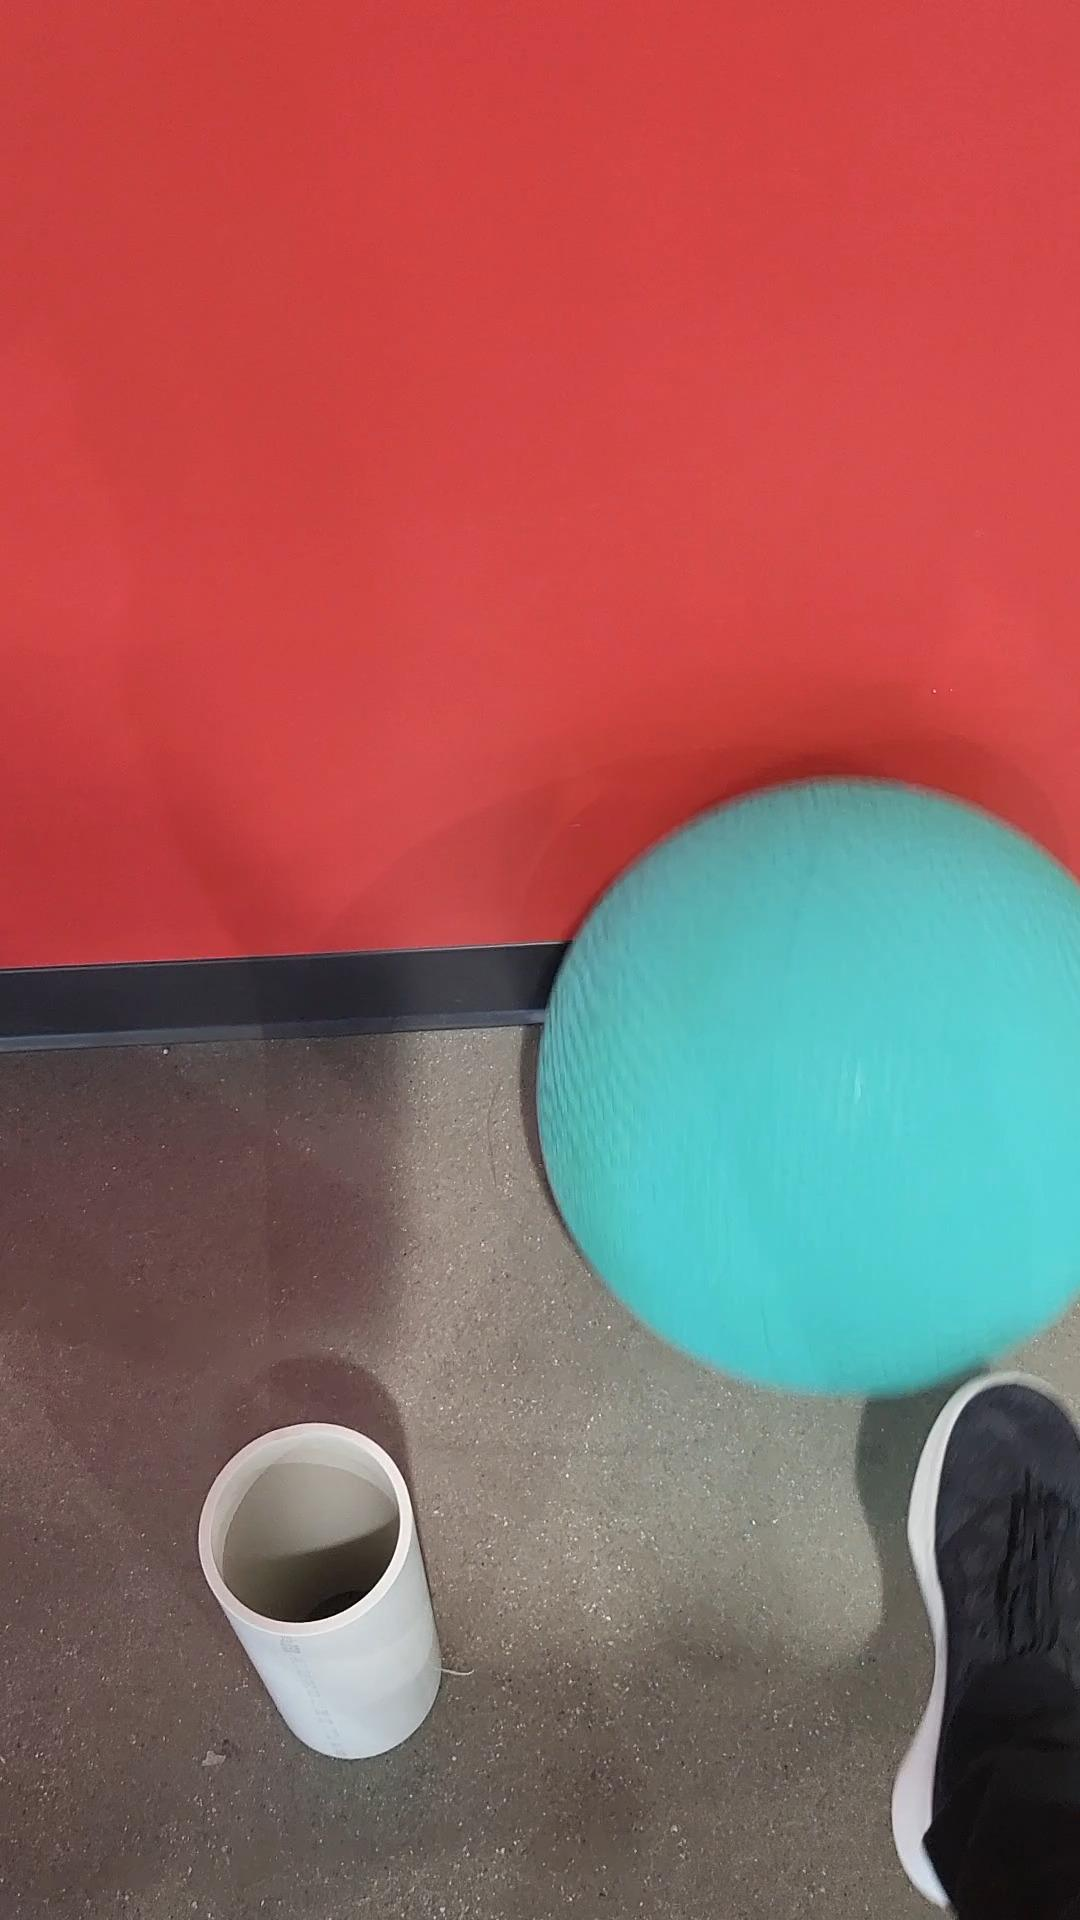algae: (522, 776, 1079, 1398)
coral: (192, 1418, 449, 1765)
